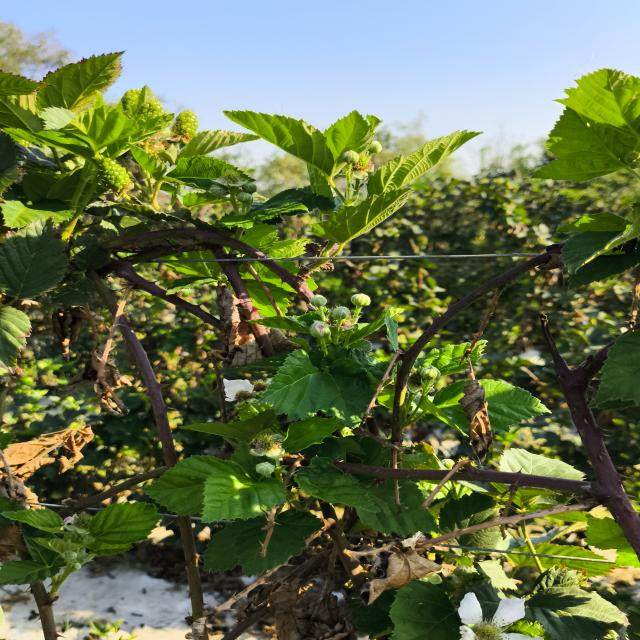boton: (309, 321, 330, 339), (255, 462, 276, 477), (331, 306, 350, 320), (351, 294, 371, 307), (342, 150, 359, 164), (309, 295, 327, 308), (369, 140, 382, 153)
